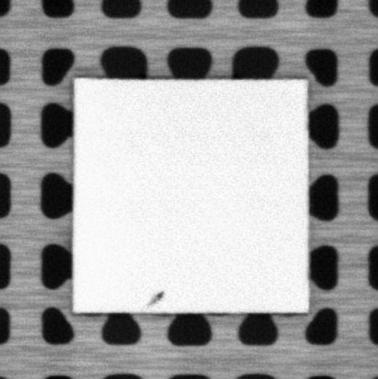DIE_INK: (145, 290, 164, 309)
